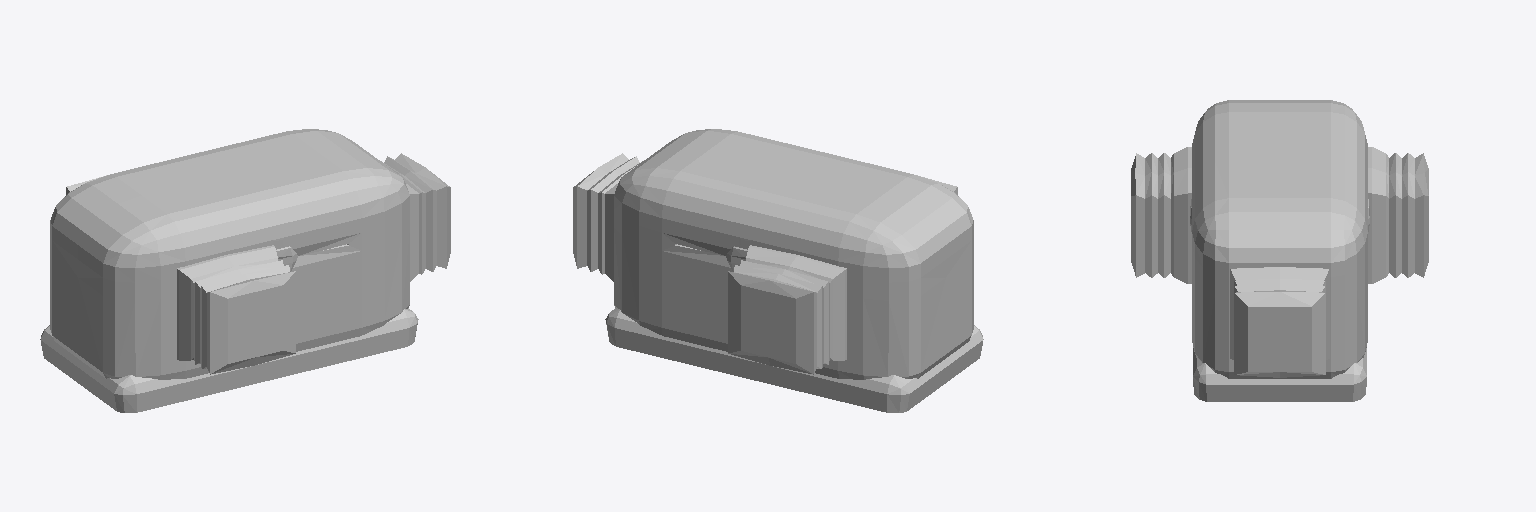
The model's file is module3CB.obj.
3 views of the same model, side by side, from view 1: azimuth 30°, elevation 25°; view 2: azimuth 150°, elevation 25°; view 3: azimuth 270°, elevation 25° (orthographic).
Visible parts, largest first — view 1: Cube.001; view 2: Cube.001; view 3: Cube.001.
Boxes of the visible parts, box(x1,y1,x2,y2) form: Cube.001: box(40, 129, 450, 412); Cube.001: box(573, 129, 983, 412); Cube.001: box(1131, 100, 1428, 401).
Bounding box in the file's own units: 10.29 × 4.86 × 7.41.